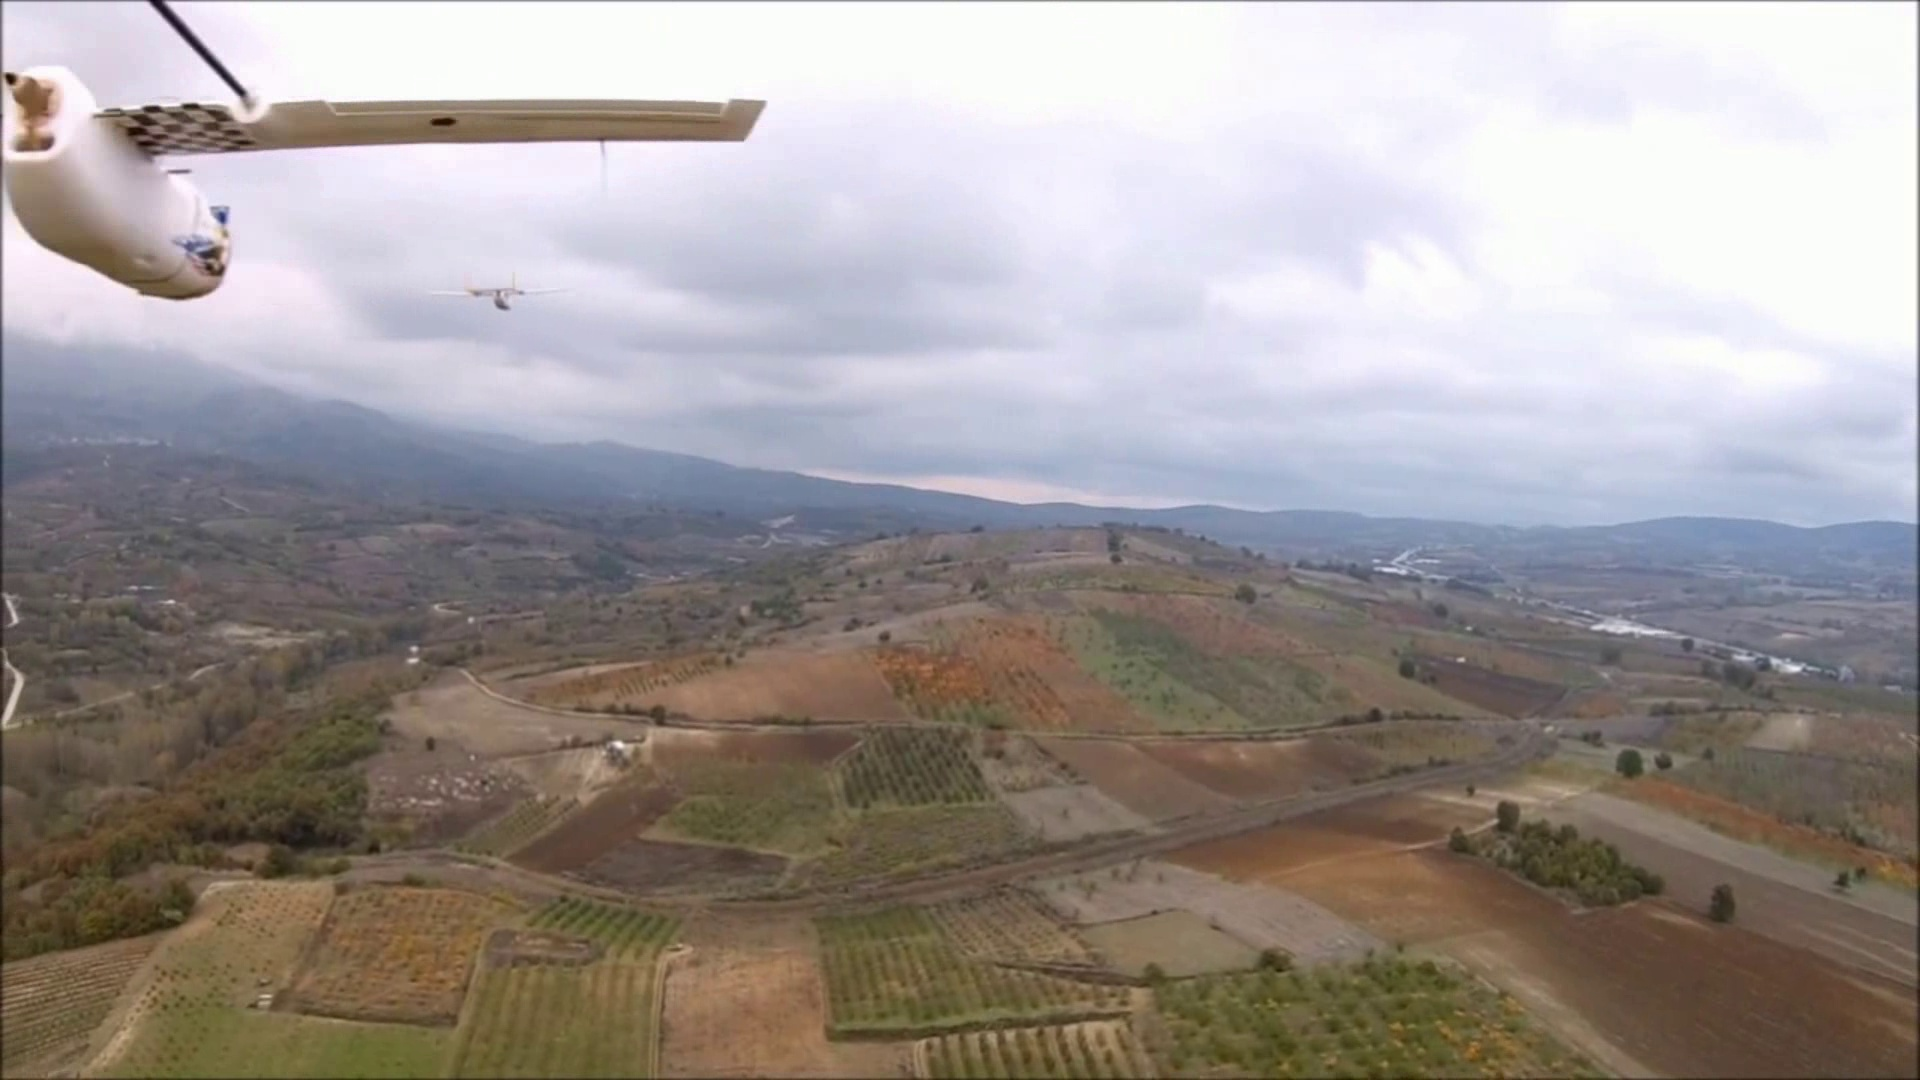airplane: (0, 47, 764, 725), (462, 280, 524, 313)
